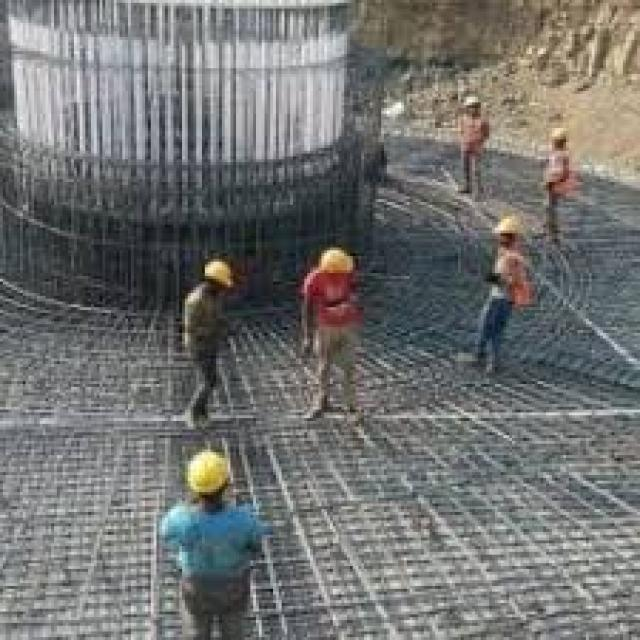Reflective-Jacket: (484, 244, 540, 316), (538, 145, 588, 205), (449, 114, 495, 162)
Safety-Helmet: (170, 441, 242, 503), (307, 242, 364, 284), (486, 205, 532, 247), (196, 253, 242, 293), (543, 122, 575, 151), (458, 91, 486, 114)
